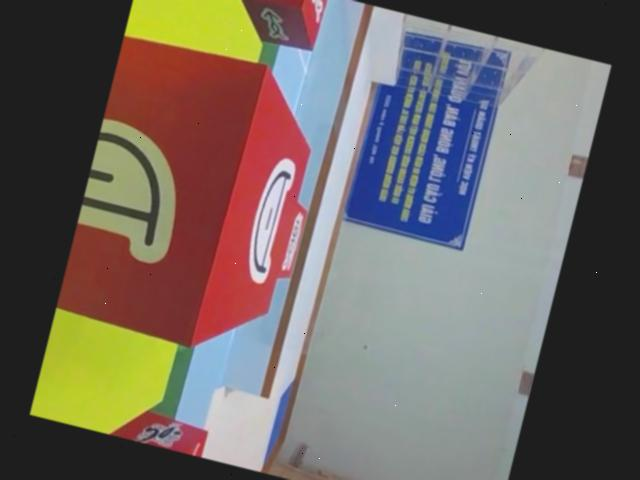R1: (97, 400, 210, 458)
R2 Real: (54, 27, 332, 366), (218, 0, 328, 54)
